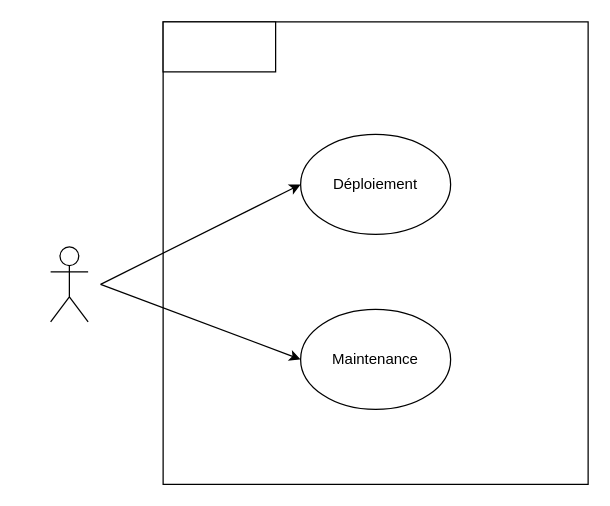
This 610x506 diagram has some shape labels left out. Each missing label, with the box of its shape:
Administrateur: (49, 246, 88, 322)
Système: (162, 21, 276, 72)
